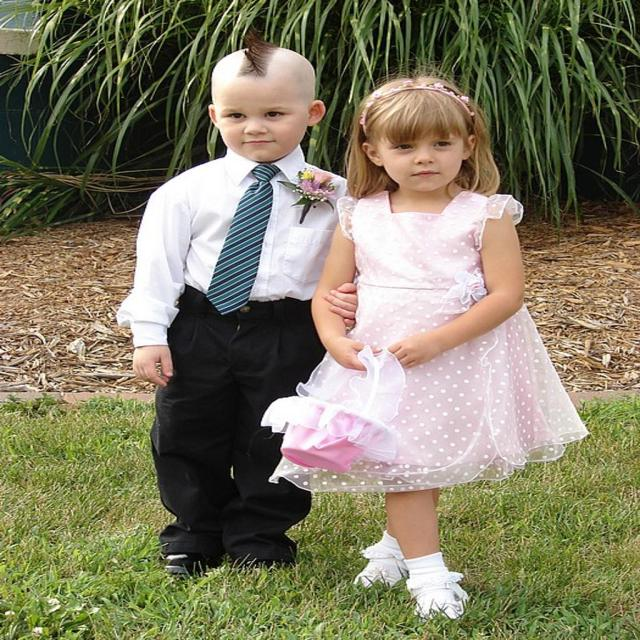Face: (214, 61, 307, 172), (374, 119, 467, 195)
